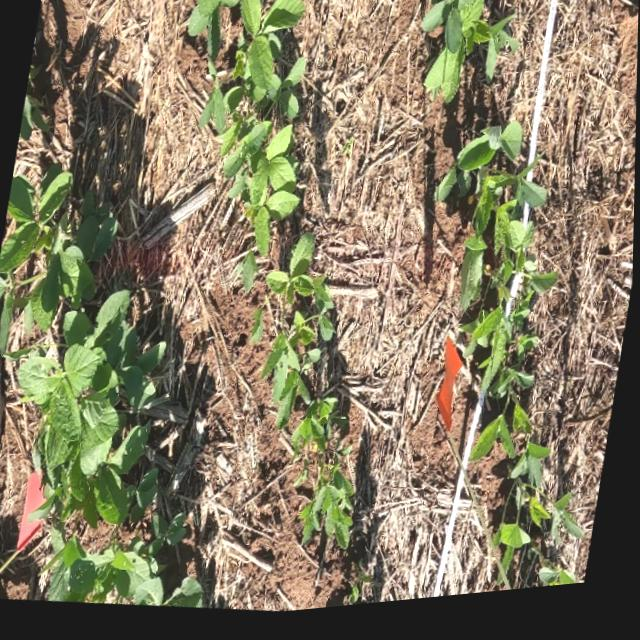soy_plant: (0, 169, 205, 611), (188, 0, 306, 295), (436, 132, 558, 411), (253, 240, 356, 554), (473, 415, 591, 600), (423, 0, 516, 108)
